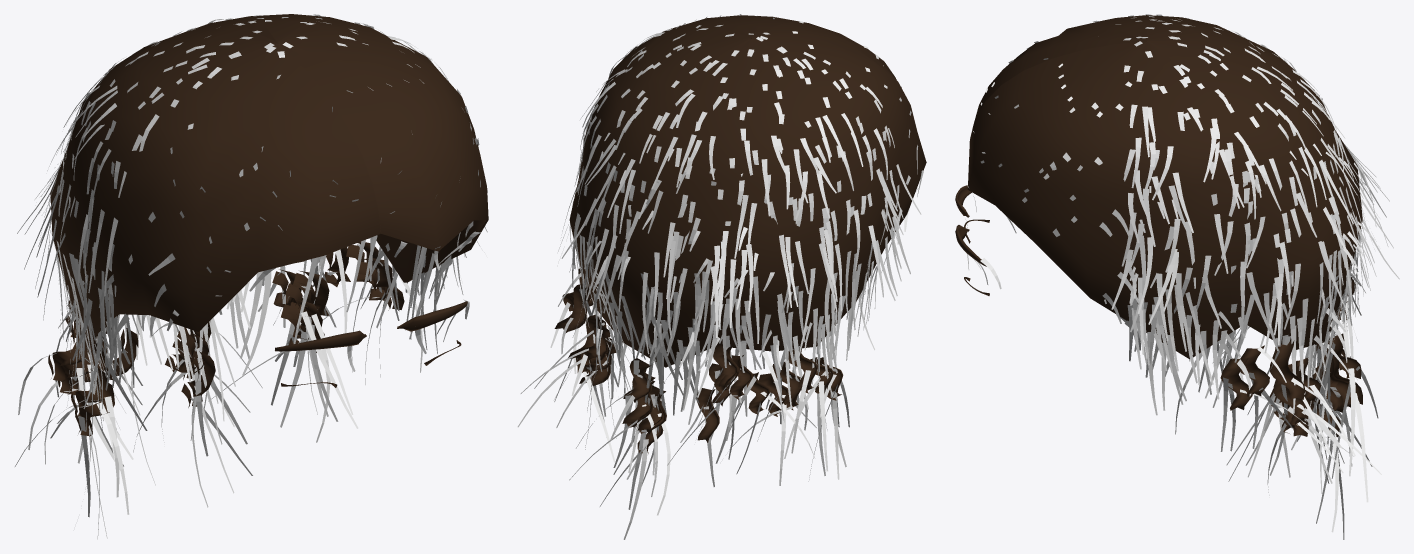
Rendered from hair-berserker-short.glb.
3 renders of one model, left to right at view 1: azimuth 30°, elevation 25°; view 2: azimuth 150°, elevation 25°; view 3: azimuth 270°, elevation 25°, orthographic. The views are drawn at different scales.
Visible parts, largest first — view 1: hair-berserker-short_1, hair__strands; view 2: hair-berserker-short_1, hair__strands; view 3: hair-berserker-short_1, hair__strands.
Part boxes in pixels (<box>): hair-berserker-short_1: <box>48,14,488,436</box>; hair__strands: <box>15,14,487,539</box>; hair-berserker-short_1: <box>554,15,926,453</box>; hair__strands: <box>517,14,923,539</box>; hair-berserker-short_1: <box>955,15,1362,437</box>; hair__strands: <box>963,14,1399,539</box>.
Size of the model in its own units: 0.2528 by 0.3304 by 0.277.
